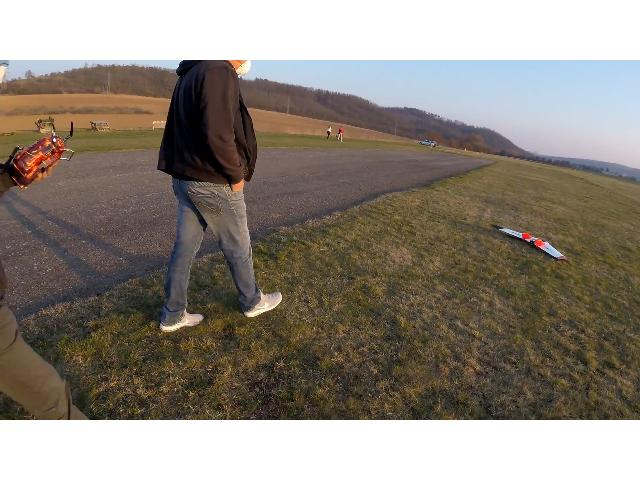Anti-Drone: (488, 211, 572, 268)
